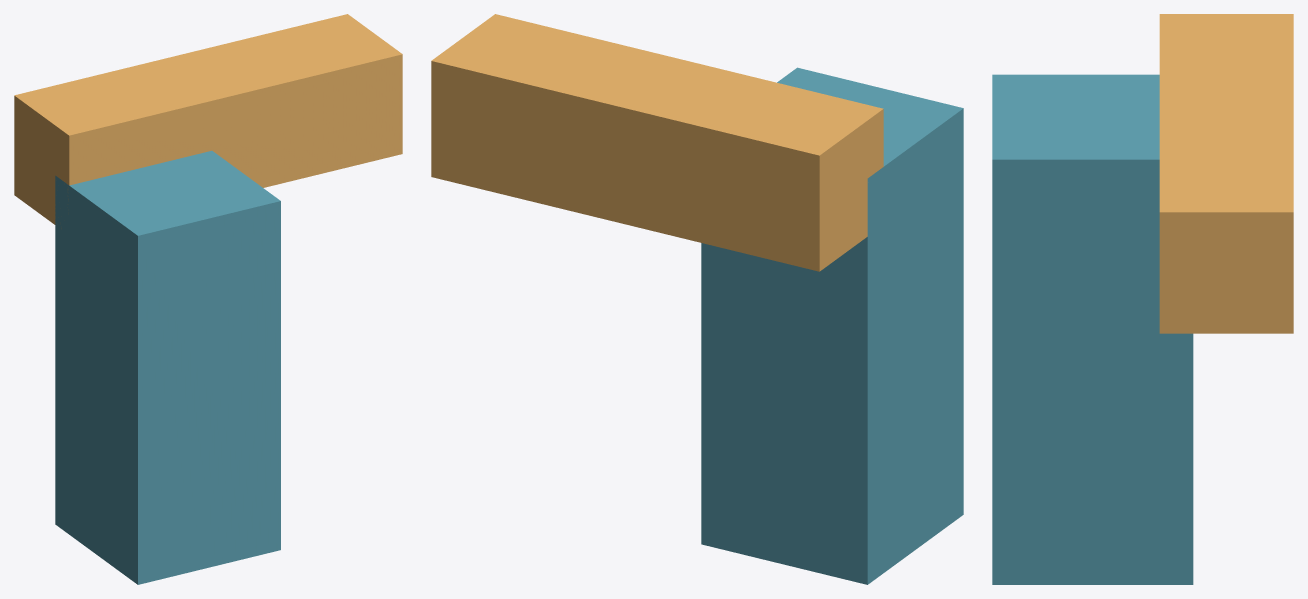
File: 方向标.glb
3 views of the same model, side by side, from view 1: azimuth 30°, elevation 25°; view 2: azimuth 150°, elevation 25°; view 3: azimuth 270°, elevation 25° (orthographic). The views are drawn at different scales.
Parts seen in each view (by area): view 1: Cube, Cube.001; view 2: Cube, Cube.001; view 3: Cube, Cube.001.
Part boxes in pixels (x1,y1,x2,y2): Cube: (55,150,280,584); Cube.001: (14,14,402,228); Cube: (701,67,963,584); Cube.001: (431,14,883,271); Cube: (992,74,1193,584); Cube.001: (1159,14,1293,333).
Bounding box in the file's own units: 0.7 × 0.8 × 0.45.
